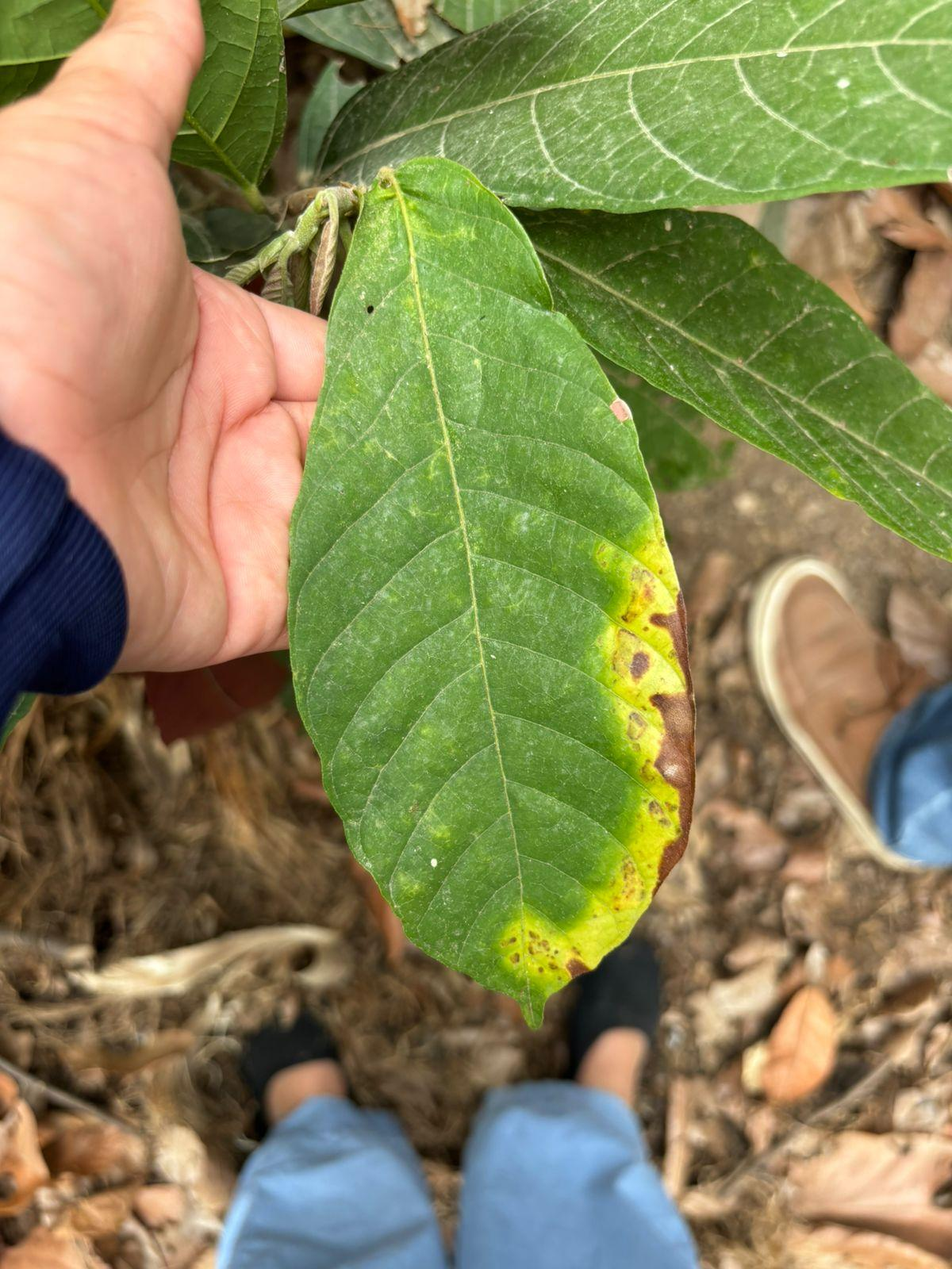deficiencia_potasio: (288, 158, 693, 1025)
